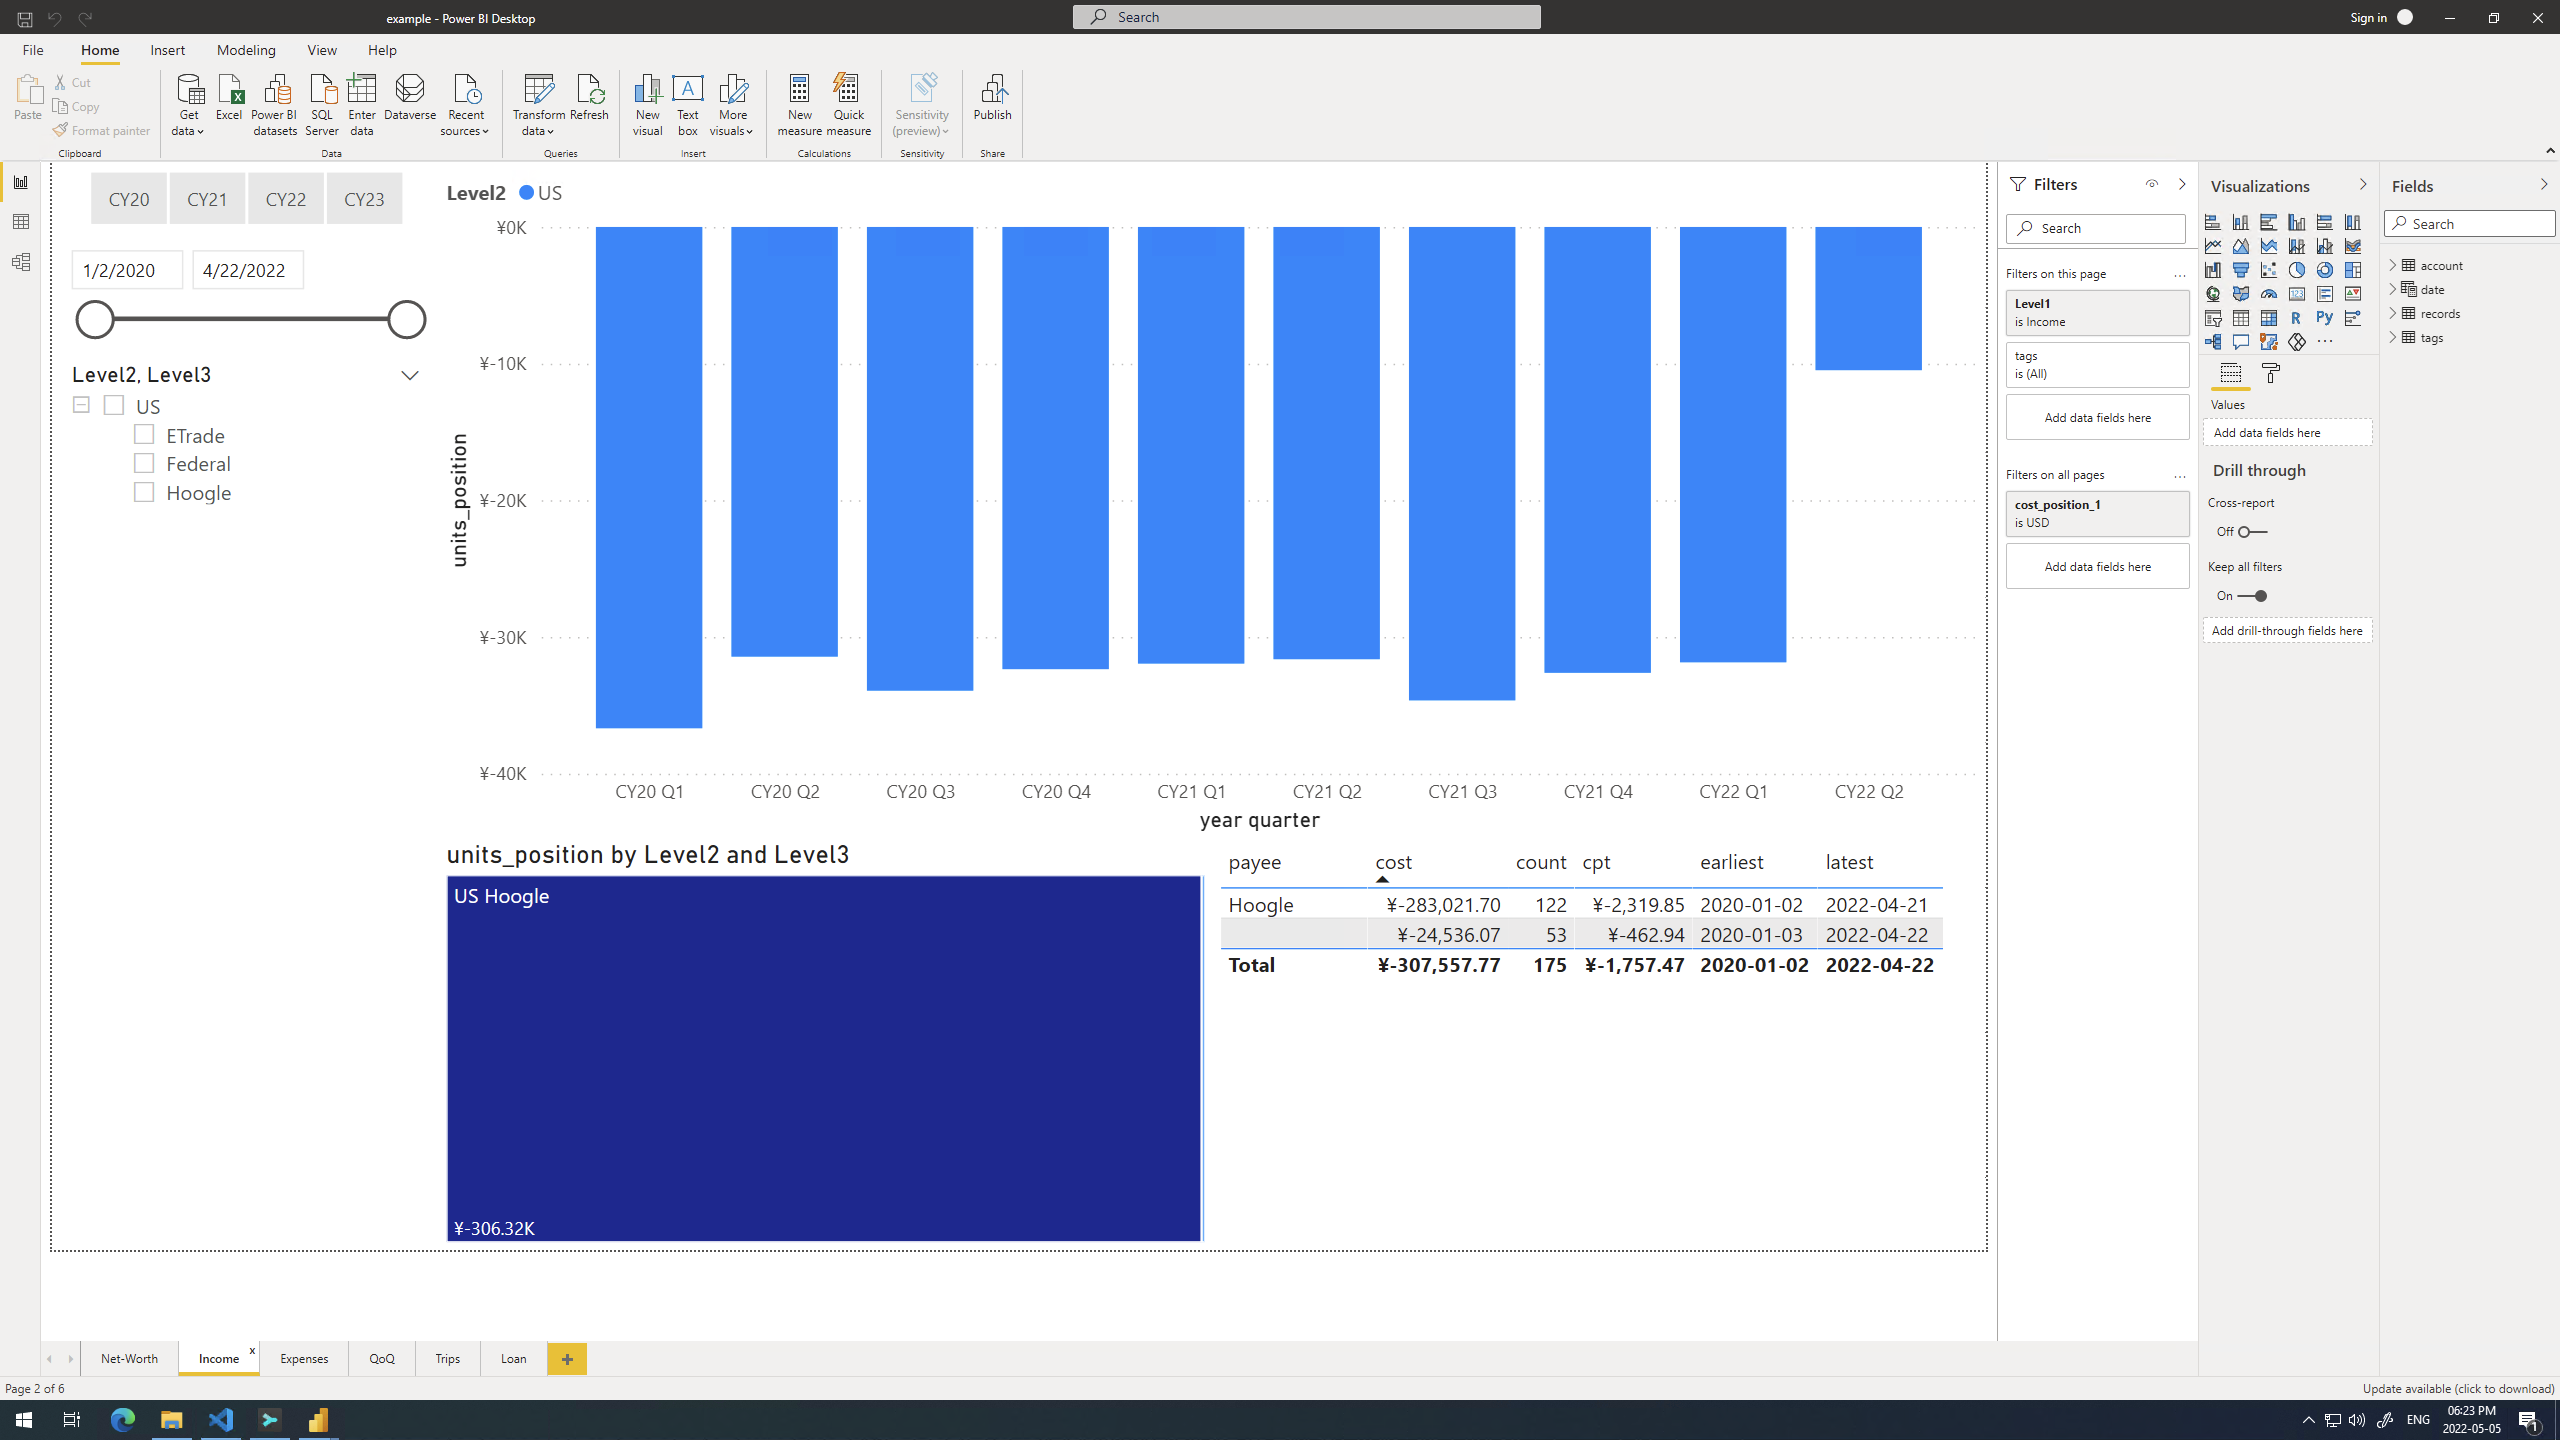

What the dashboard file says about the page in this screenshot:
{"tool":"powerbi","page":{"name":"Income","canvas":[1280,720],"ordinal":1},"visuals":[{"type":"slicer","fields":{"Values":["date.actual_cal.year"]},"box":[0,0,256,48],"z":0},{"type":"slicer","fields":{"Values":["records.date"]},"box":[0,48,256,80],"z":1000},{"type":"slicer","fields":{"Values":["account.category.Level2","account.category.Level3"]},"box":[0,128,256,592],"z":2000},{"type":"columnChart","fields":{"Y":["Sum(records.units_position)"],"Category":["date.actual_cal.year","date.actual_cal.quarter","date.actual_cal.month"],"Series":["account.category.Level2"]},"box":[256,0,1024,448],"z":3000},{"type":"treemap","fields":{"Values":["Sum(records.units_position)"],"Group":["account.category.Level2","account.category.Level3"]},"box":[256,448,512,272],"z":4000},{"type":"tableEx","fields":{"Values":["records.payee","Sum(records.cost_position)","records.id","records.cpt","records.date","records.date1"]},"box":[768,448,512,272],"z":5000}]}

Visuals, with their boxes on the page's 1280x720 design canvas (x1, y1, x2, y2). These are canvas units, not pixel positions in the 2560x1440 screenshot, which may show the page scaled, cropped or inside an application window:
slicer - date.actual_cal.year: (0, 0, 256, 48)
slicer - records.date: (0, 48, 256, 128)
slicer - account.category.Level2 x account.category.Level3: (0, 128, 256, 720)
columnChart - Sum(records.units_position) x date.actual_cal.year: (256, 0, 1280, 448)
treemap - Sum(records.units_position) x account.category.Level2: (256, 448, 768, 720)
tableEx - records.payee x Sum(records.cost_position): (768, 448, 1280, 720)
